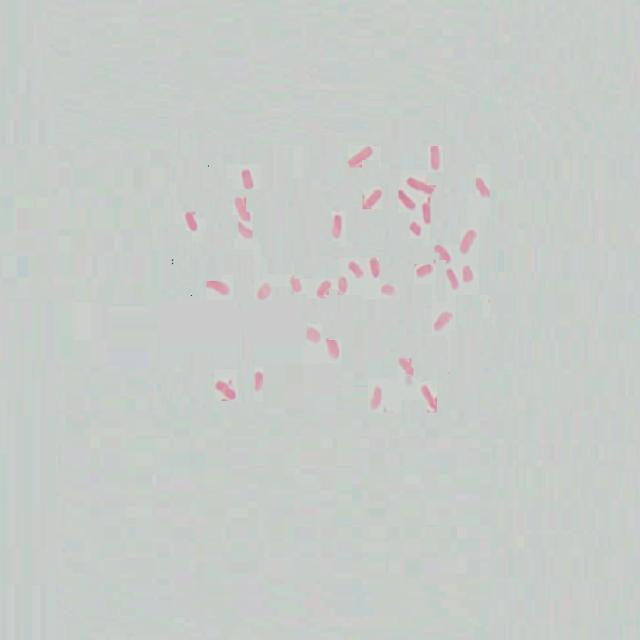E-coli: (416, 381, 435, 416), (396, 347, 416, 380), (346, 144, 373, 168), (407, 172, 435, 194), (214, 374, 237, 399), (302, 323, 325, 347), (204, 274, 229, 296), (457, 225, 476, 252), (325, 333, 342, 363), (474, 169, 491, 199), (443, 265, 460, 295), (368, 380, 382, 413), (427, 140, 441, 173), (234, 194, 250, 222), (250, 370, 266, 397), (436, 237, 453, 262), (397, 192, 415, 215), (182, 212, 199, 236), (432, 311, 453, 330), (361, 189, 380, 210), (318, 275, 332, 303), (287, 271, 300, 299), (256, 282, 272, 304), (415, 259, 433, 278), (239, 167, 254, 189), (336, 273, 348, 298), (331, 208, 341, 238), (350, 258, 363, 281), (237, 223, 253, 241), (368, 255, 381, 277), (421, 198, 432, 223), (462, 264, 475, 283), (378, 283, 393, 298), (409, 220, 420, 236)
